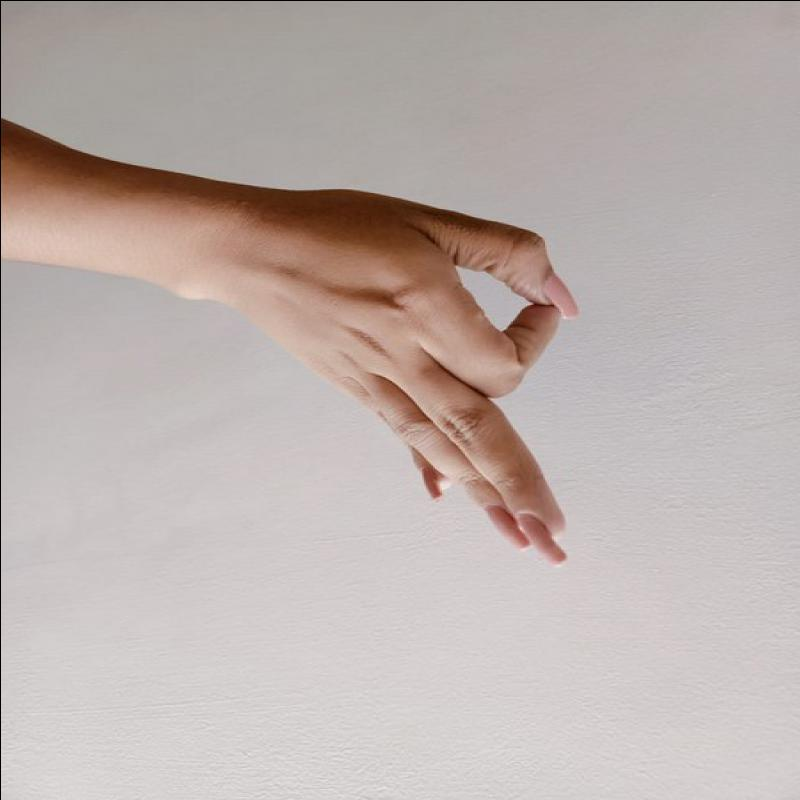Mudraakhyam: (222, 172, 586, 585)
